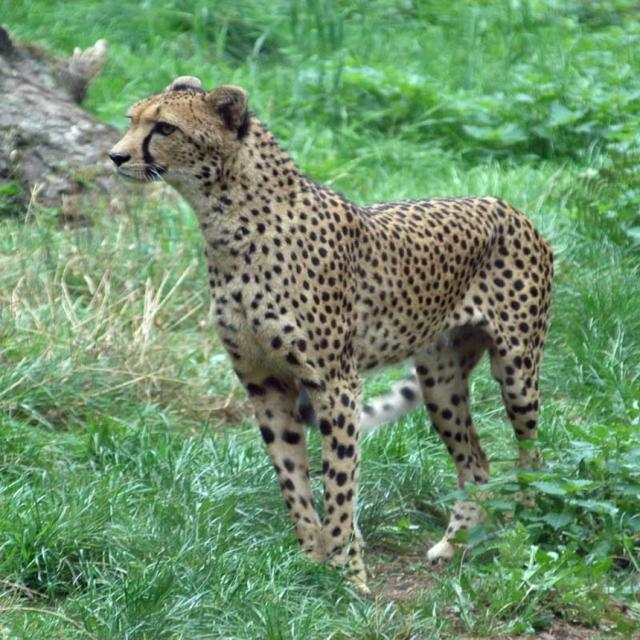Cheetah: (98, 70, 572, 586)
